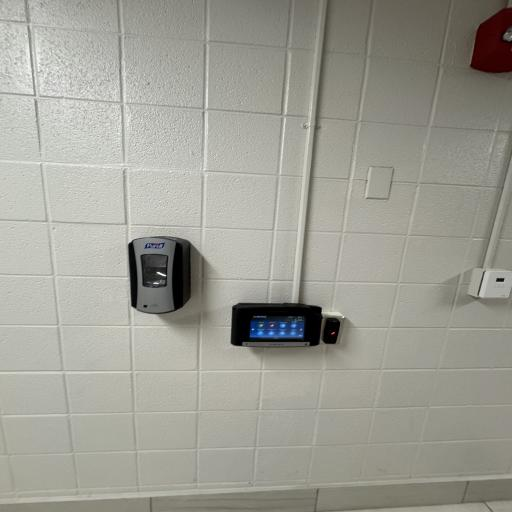fire alarm signal: (470, 0, 512, 70)
hand sanitizer: (124, 232, 196, 316)
stuff: (228, 298, 349, 352)
